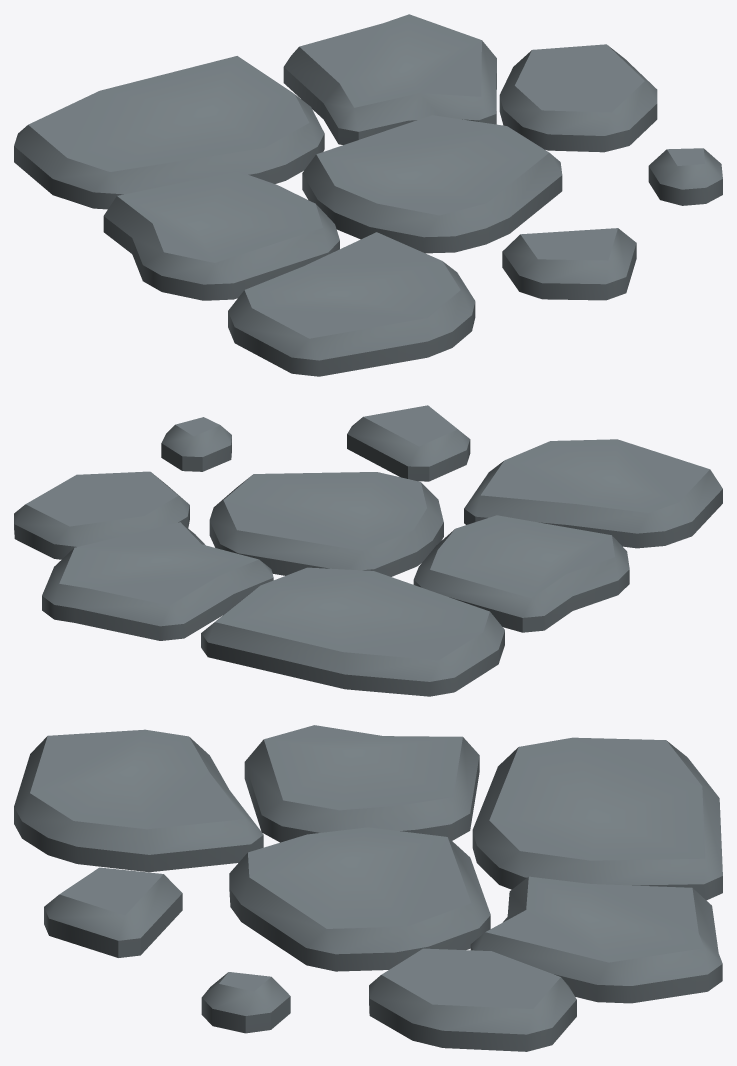
The model's file is Path C.glb.
3 views of the same model, one above another, from view 1: azimuth 30°, elevation 25°; view 2: azimuth 150°, elevation 25°; view 3: azimuth 270°, elevation 25° (orthographic). The views are drawn at different scales.
Visible parts, largest first — view 1: path_C; view 2: path_C; view 3: path_C.
Part boxes in pixels (x1=…): path_C: x1=14, y1=14, x2=722, y2=376; path_C: x1=14, y1=405, x2=722, y2=696; path_C: x1=14, y1=725, x2=722, y2=1051.
Bounding box in the file's own units: 1.85 × 0.1 × 1.86.
1 material, 1 textured.
